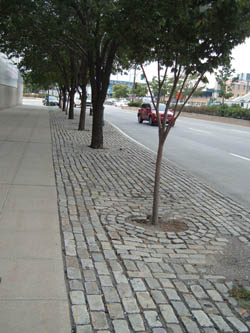Tree: (117, 1, 243, 233), (59, 1, 144, 161)
